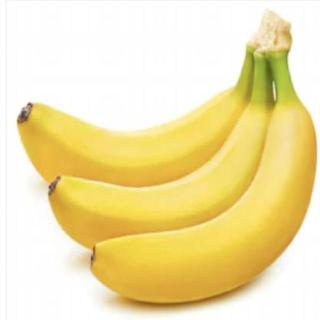banana: (89, 102, 317, 305), (46, 102, 290, 261), (15, 89, 262, 209)
